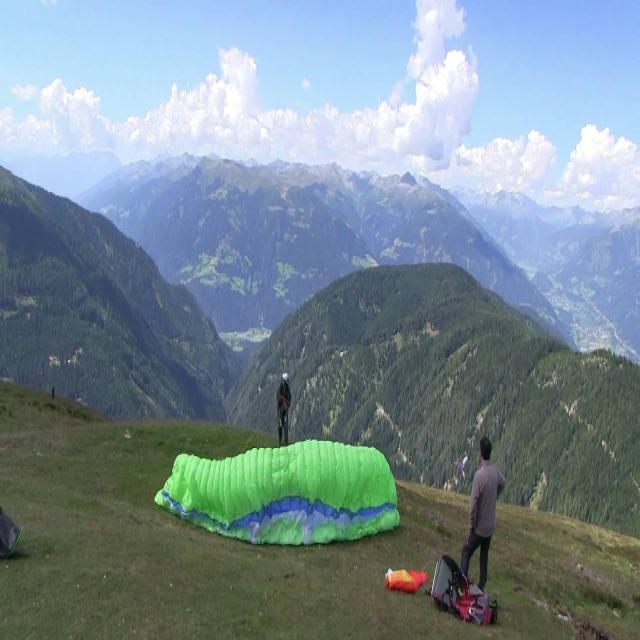paraglider: (154, 436, 400, 546)
